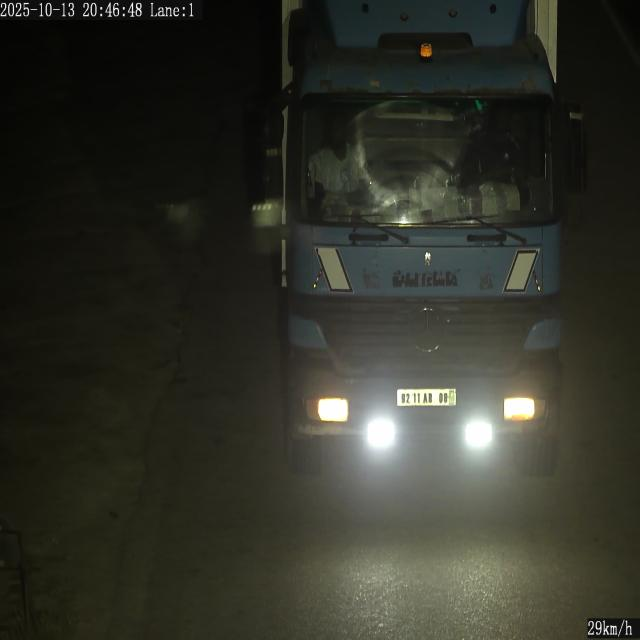BUS: (397, 389, 455, 406)
